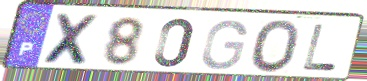0: (151, 16, 196, 70)
8: (102, 15, 148, 67)
G: (199, 18, 250, 72)
L: (300, 23, 340, 74)
O: (248, 18, 303, 75)
X: (40, 11, 103, 68)
